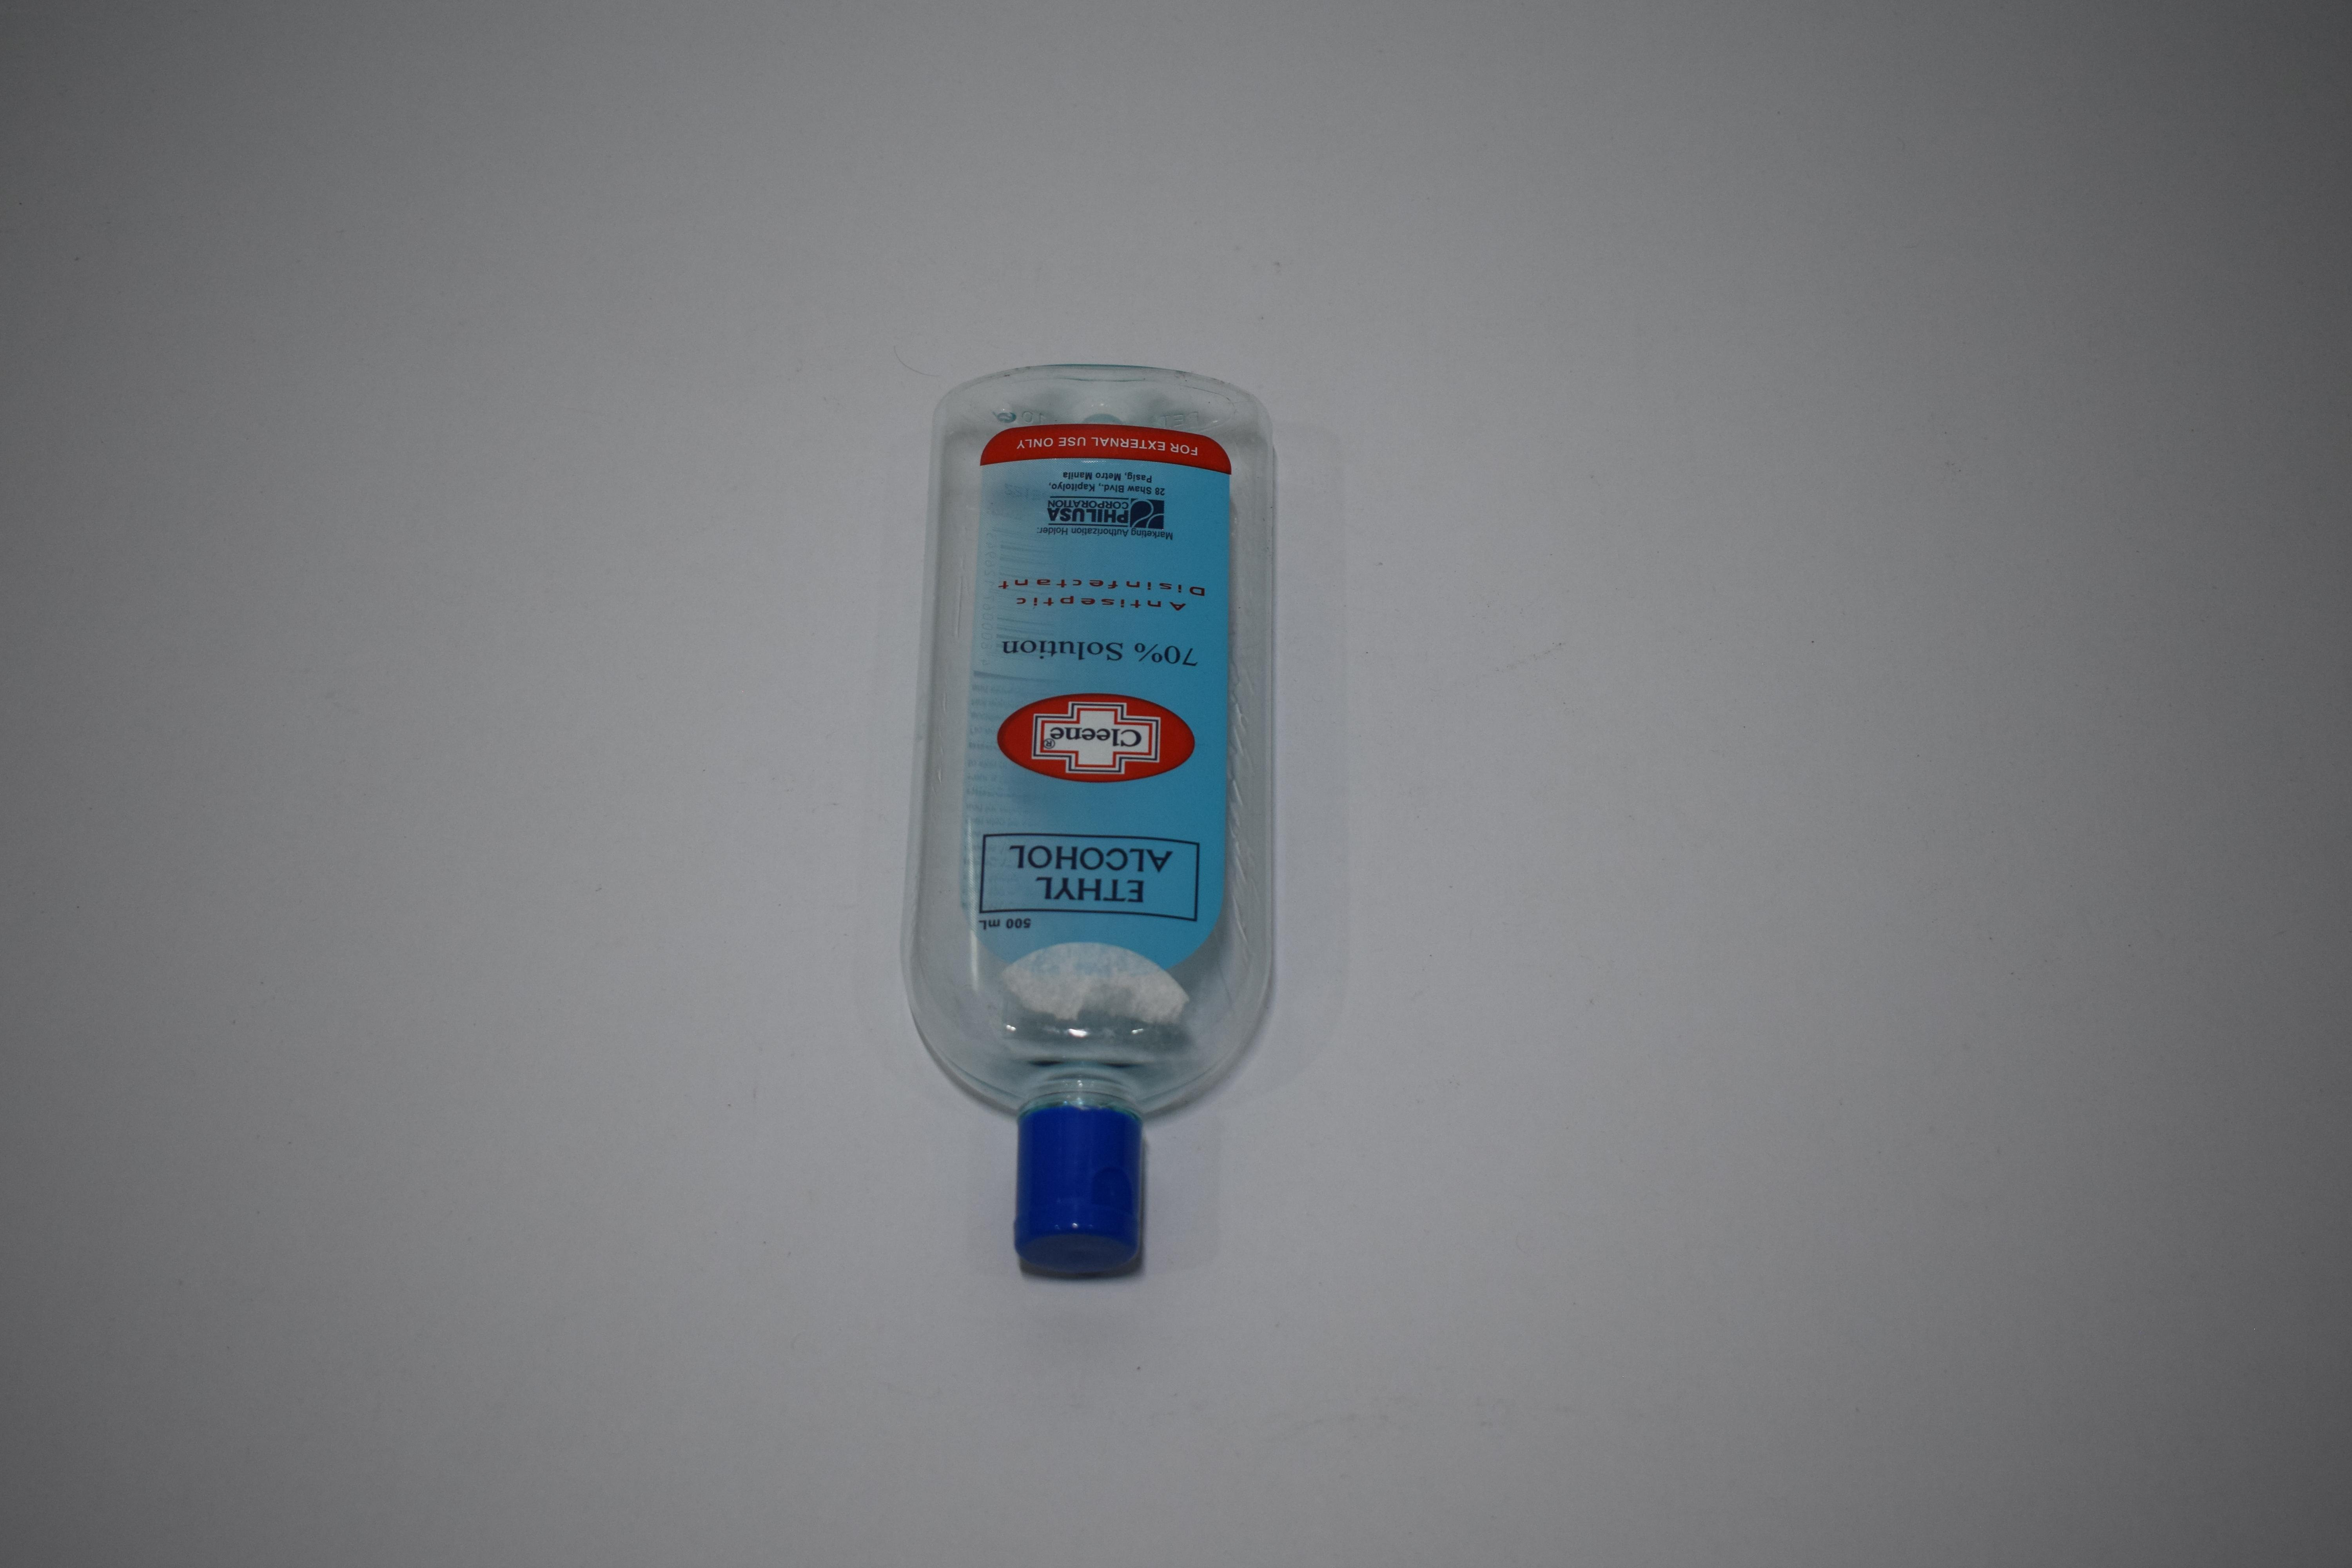bottle: (889, 0, 1274, 102)
